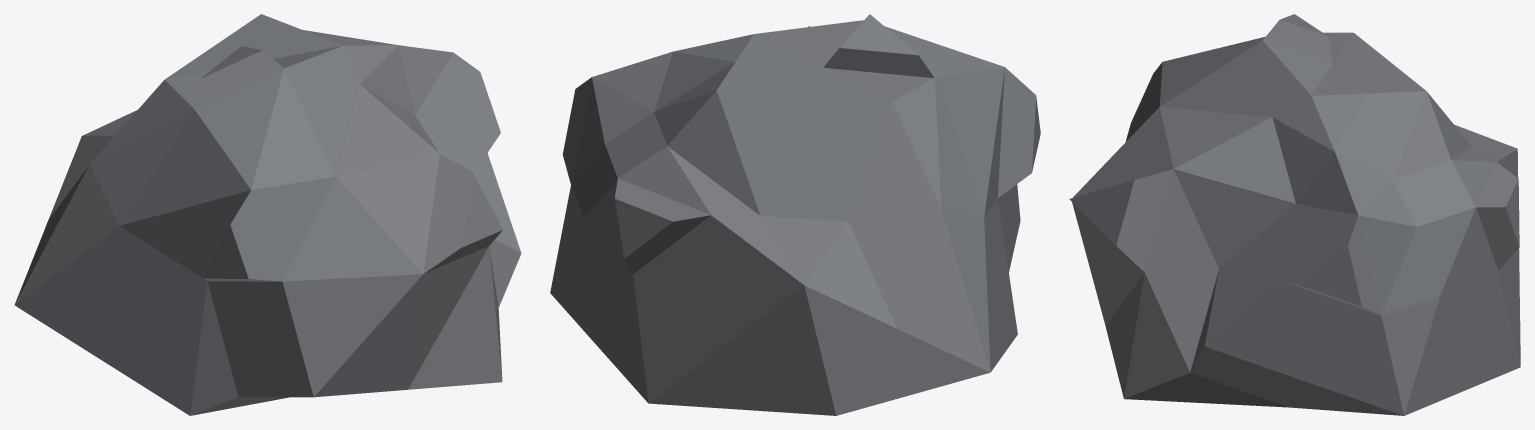
The model's file is Iron2.fbx.
The picture shows the model from 3 angles, left to right: view 1: azimuth 30°, elevation 25°; view 2: azimuth 150°, elevation 25°; view 3: azimuth 270°, elevation 25°; orthographic projection. The views are drawn at different scales.
Parts seen in each view (by area): view 1: Rock2; view 2: Rock2; view 3: Rock2.
Boxes of the visible parts, box(x1,y1,x2,y2) form: Rock2: box(14, 14, 521, 415); Rock2: box(550, 14, 1040, 415); Rock2: box(1069, 14, 1520, 415).
Size of the model in its own units: 111 by 75.48 by 102.
